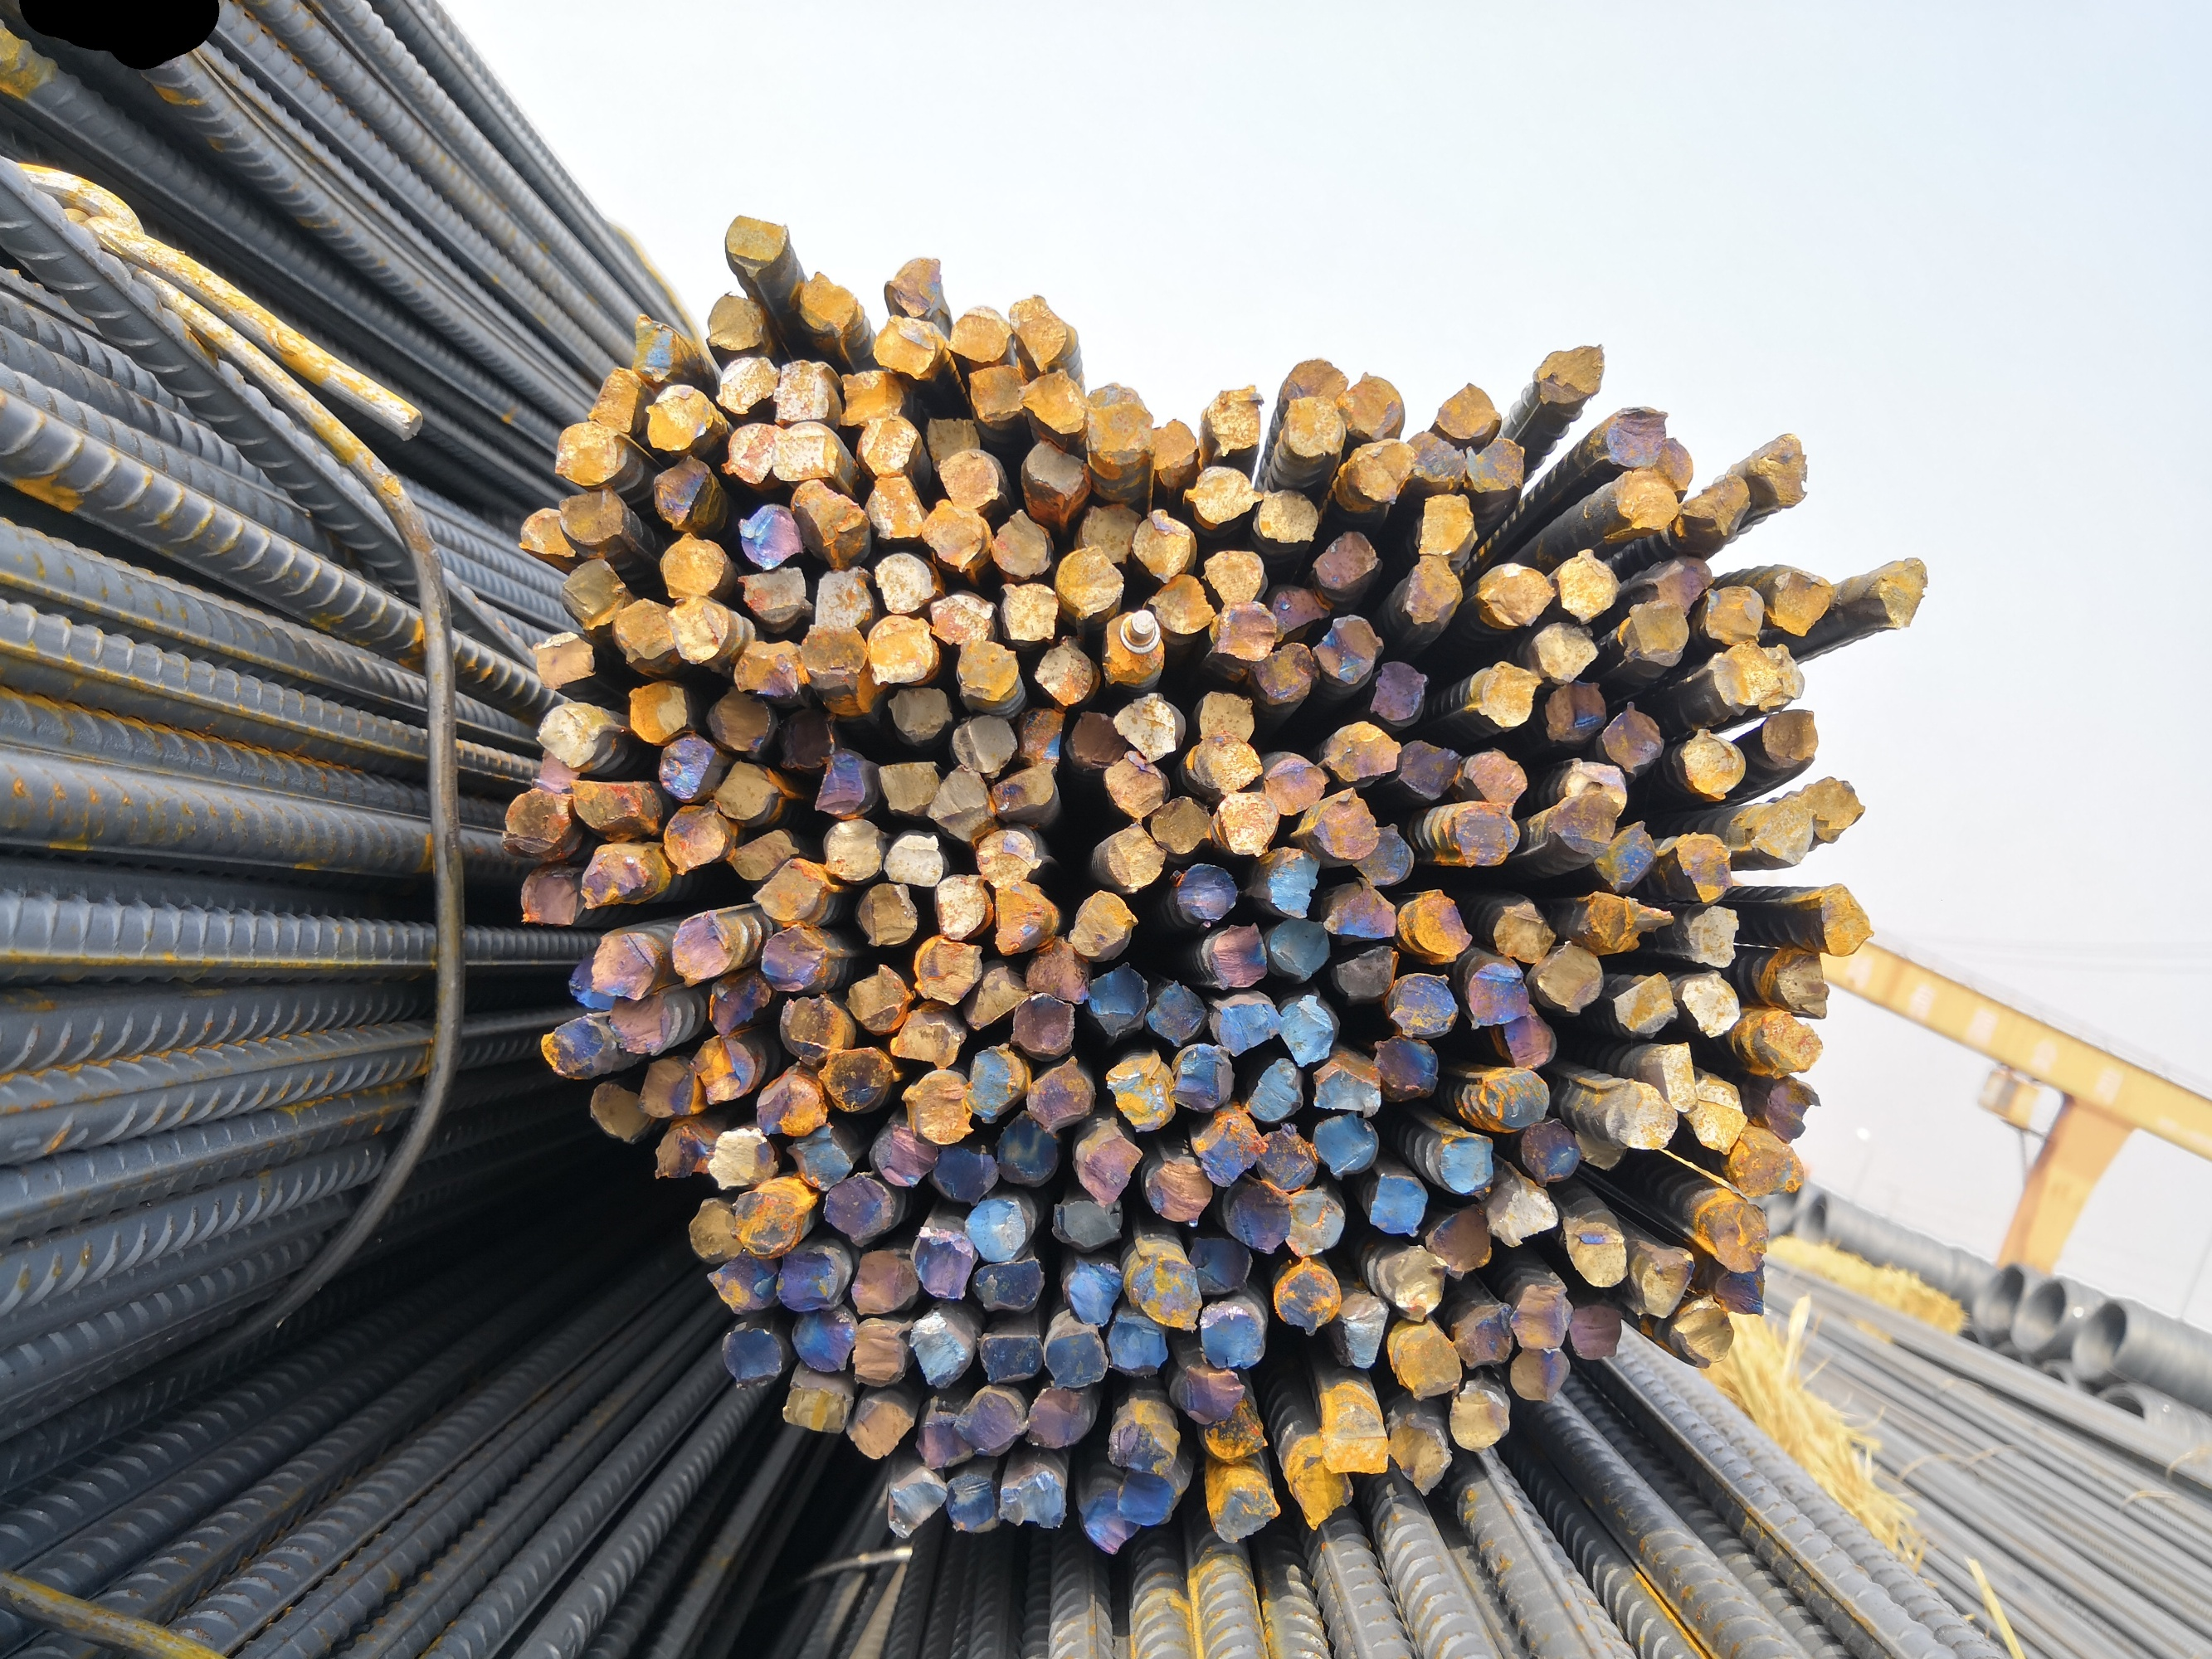rebar: (787, 480, 870, 569), (1131, 1243, 1202, 1332), (1082, 380, 1155, 465), (813, 1038, 892, 1113), (1317, 1399, 1391, 1478), (1599, 1078, 1679, 1151), (1581, 888, 1669, 953), (1557, 1212, 1630, 1290), (929, 764, 1000, 844), (753, 855, 830, 929), (1683, 473, 1756, 549), (1727, 1131, 1805, 1202), (1545, 791, 1623, 861), (1591, 816, 1661, 893), (1745, 791, 1814, 870), (888, 1004, 967, 1072), (1106, 1050, 1173, 1131), (1289, 1448, 1356, 1529), (1426, 1200, 1493, 1282), (1686, 1074, 1752, 1155), (1387, 1413, 1452, 1496), (902, 1068, 974, 1142), (1596, 401, 1670, 474), (557, 557, 627, 633), (911, 931, 983, 1005), (821, 1171, 893, 1246), (1482, 559, 1558, 629), (1597, 701, 1667, 777), (1668, 1295, 1736, 1373), (993, 1106, 1060, 1187), (641, 383, 714, 455), (733, 502, 804, 575), (730, 1185, 803, 1257), (1313, 611, 1385, 684), (956, 958, 1030, 1029), (1537, 940, 1606, 1014), (1404, 888, 1473, 962), (1056, 542, 1126, 617), (1705, 639, 1780, 710), (1223, 1178, 1291, 1255), (1313, 787, 1381, 865), (734, 636, 811, 702), (1182, 465, 1263, 530), (1076, 1127, 1141, 1208), (1752, 431, 1817, 511), (1469, 1066, 1552, 1130), (551, 417, 622, 489), (1449, 800, 1520, 872), (780, 993, 852, 1063), (659, 529, 727, 605), (499, 788, 574, 855), (847, 1248, 922, 1316), (1025, 1053, 1094, 1130), (1701, 1201, 1769, 1276), (581, 843, 656, 909), (920, 496, 986, 576), (1200, 382, 1262, 462), (1131, 505, 1192, 587), (1633, 1238, 1693, 1321), (660, 805, 729, 877), (761, 922, 831, 993), (1066, 886, 1137, 957), (1388, 969, 1459, 1039), (1335, 371, 1406, 440), (867, 613, 935, 687), (538, 1014, 611, 1082), (706, 1126, 779, 1194), (706, 1248, 779, 1316), (1100, 820, 1168, 894), (1275, 1260, 1341, 1337), (1327, 717, 1403, 781), (1099, 608, 1164, 684), (1556, 547, 1619, 624), (1007, 294, 1069, 375), (1322, 880, 1402, 941), (872, 314, 941, 383), (534, 702, 606, 772), (845, 1393, 916, 1462), (1176, 1358, 1245, 1427), (1146, 1156, 1216, 1226), (1754, 1008, 1823, 1078), (1765, 947, 1834, 1017), (723, 212, 791, 282), (1021, 438, 1091, 505), (703, 685, 771, 757), (585, 1075, 653, 1147), (1022, 1381, 1093, 1450), (963, 1196, 1031, 1267), (1800, 773, 1866, 845), (1075, 496, 1143, 569), (996, 1467, 1070, 1534), (1368, 1032, 1441, 1098), (1677, 966, 1742, 1039), (1610, 971, 1683, 1038), (1113, 690, 1181, 763), (1101, 746, 1167, 820), (1533, 343, 1608, 410), (1769, 565, 1836, 638), (648, 454, 712, 529), (1814, 881, 1877, 958), (1020, 368, 1087, 437), (956, 635, 1024, 704), (589, 931, 660, 998), (784, 1122, 852, 1193), (956, 1388, 1024, 1457), (870, 1121, 938, 1190), (1350, 435, 1417, 504), (846, 963, 914, 1035), (1474, 659, 1542, 730), (1282, 1187, 1346, 1260), (1670, 829, 1734, 902), (1680, 727, 1746, 800), (1401, 552, 1462, 627), (989, 504, 1049, 581), (1033, 631, 1094, 708), (689, 1038, 756, 1105), (1196, 1121, 1264, 1188), (1613, 466, 1680, 535), (555, 485, 625, 550), (798, 624, 869, 689), (709, 758, 777, 825), (1196, 1399, 1266, 1466), (1489, 1182, 1558, 1248), (836, 365, 906, 428), (757, 1074, 828, 1138), (1282, 391, 1346, 462), (671, 911, 730, 988), (1391, 1246, 1450, 1323), (932, 1139, 1001, 1205), (951, 714, 1019, 779), (789, 1305, 855, 1374), (1467, 960, 1532, 1030), (1268, 913, 1332, 982), (914, 1230, 977, 1302), (1146, 978, 1208, 1049), (1449, 1384, 1512, 1455), (1399, 1330, 1463, 1401), (1509, 1282, 1573, 1352), (1518, 1117, 1581, 1188), (1192, 732, 1264, 794), (1873, 555, 1930, 635), (664, 593, 725, 665), (586, 362, 645, 438), (1088, 963, 1147, 1039), (1251, 1126, 1318, 1191), (1533, 620, 1600, 687), (611, 598, 675, 666), (704, 971, 772, 1035), (775, 1248, 843, 1312), (1007, 992, 1075, 1056), (1025, 937, 1089, 1004), (1312, 1109, 1377, 1177), (1206, 923, 1271, 991), (1492, 897, 1557, 965), (1216, 791, 1280, 859), (1433, 378, 1501, 442), (771, 420, 840, 483), (1169, 862, 1239, 925), (931, 871, 992, 943), (1061, 1254, 1123, 1326), (1394, 738, 1465, 800), (1144, 572, 1215, 633), (992, 878, 1051, 952), (971, 1255, 1045, 1315), (1212, 997, 1284, 1056), (569, 773, 646, 831), (714, 353, 782, 417), (882, 253, 946, 319), (719, 1325, 785, 1389), (1199, 1303, 1266, 1368), (1404, 426, 1469, 491), (1541, 679, 1606, 742), (1077, 1486, 1141, 1554), (1462, 746, 1530, 809), (1647, 554, 1717, 615), (965, 1044, 1019, 1122), (1169, 1041, 1230, 1112), (1243, 1056, 1303, 1128), (1310, 1060, 1383, 1118), (738, 564, 812, 622), (796, 270, 859, 334), (873, 551, 938, 615), (810, 564, 873, 630), (532, 630, 598, 693), (517, 866, 583, 929), (819, 818, 883, 883), (885, 1471, 948, 1537), (1147, 794, 1214, 857), (1261, 752, 1328, 816), (1212, 599, 1277, 663), (1250, 640, 1317, 703), (946, 302, 1015, 363), (626, 677, 687, 745), (636, 1053, 698, 1120), (858, 881, 919, 950), (1369, 1173, 1430, 1240), (865, 474, 924, 543), (1275, 995, 1336, 1065), (1416, 489, 1477, 559), (908, 1315, 962, 1389), (1048, 1196, 1123, 1249), (1277, 355, 1352, 409), (1186, 1234, 1252, 1297), (1463, 434, 1527, 497), (1700, 583, 1765, 647), (889, 681, 955, 743), (607, 993, 673, 1055), (1437, 1131, 1497, 1197), (974, 826, 1042, 886), (1499, 1000, 1558, 1068), (1333, 943, 1399, 1001), (1261, 852, 1321, 920), (647, 1127, 719, 1181), (939, 448, 1001, 511), (1367, 658, 1429, 720), (1450, 1306, 1514, 1367), (1562, 755, 1627, 816), (773, 359, 833, 426), (928, 589, 995, 648), (1107, 1418, 1173, 1477), (1761, 703, 1820, 771), (1313, 529, 1381, 586), (688, 1196, 745, 1266), (728, 828, 801, 882), (782, 1382, 855, 1436), (706, 291, 767, 354), (963, 362, 1027, 424), (996, 580, 1060, 642), (1108, 1317, 1169, 1379), (1116, 1466, 1178, 1527), (776, 708, 835, 771), (944, 1473, 1004, 1536), (1354, 820, 1414, 885), (1640, 433, 1700, 497), (721, 419, 780, 484), (655, 733, 714, 800), (1215, 1486, 1281, 1545), (1685, 903, 1742, 969), (989, 761, 1057, 816), (851, 1321, 906, 1389), (1340, 1295, 1391, 1370), (1630, 596, 1690, 656), (915, 1410, 974, 1472), (1042, 1330, 1105, 1389), (1713, 1255, 1770, 1319), (1765, 1077, 1822, 1141), (1255, 486, 1319, 544), (816, 749, 871, 816), (629, 312, 682, 382), (1206, 546, 1267, 605), (1757, 640, 1807, 712), (856, 416, 918, 474), (1510, 1344, 1573, 1402), (1567, 1302, 1624, 1362), (981, 1331, 1047, 1384), (1266, 583, 1332, 636), (1655, 1040, 1703, 1114), (1147, 416, 1198, 485), (879, 757, 938, 815), (882, 829, 942, 888), (516, 505, 577, 561), (1072, 707, 1127, 768), (1196, 689, 1257, 743), (565, 947, 614, 1013), (925, 415, 980, 470), (1016, 702, 1063, 766), (528, 743, 583, 793), (1571, 1128, 1628, 1175)
